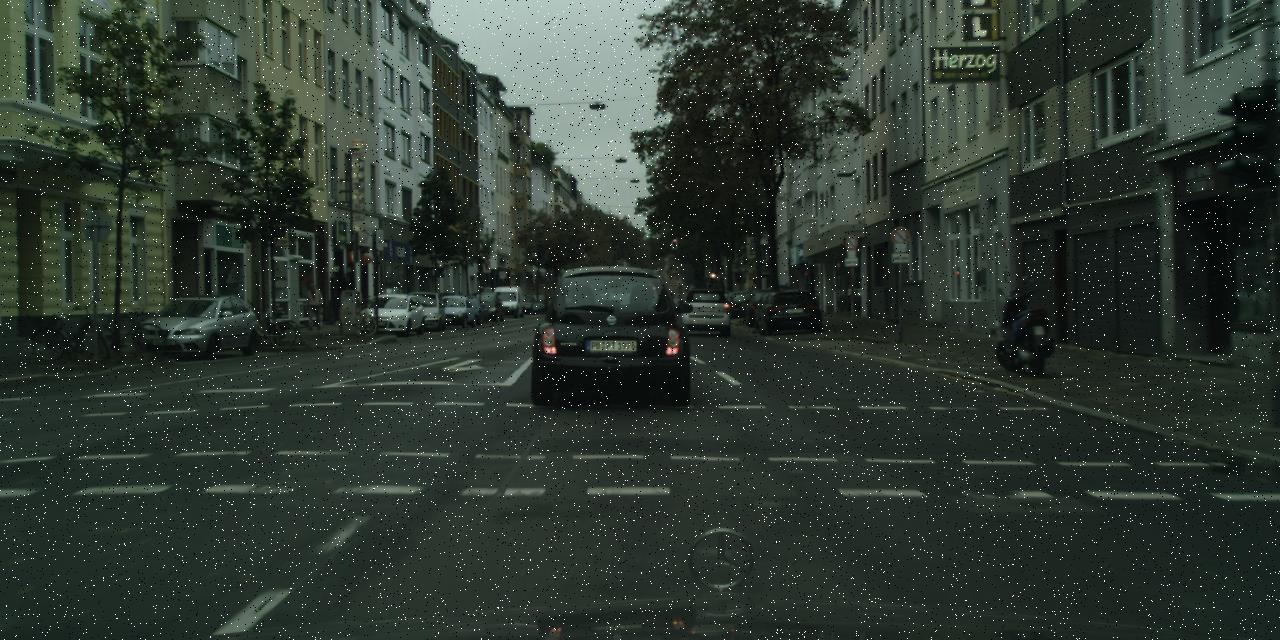ped: (304, 282, 322, 328)
